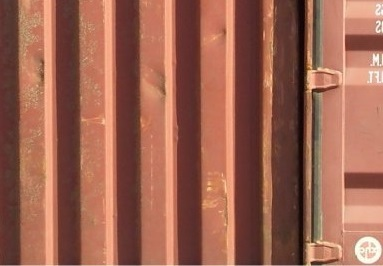container_no_door: (1, 1, 313, 266)
